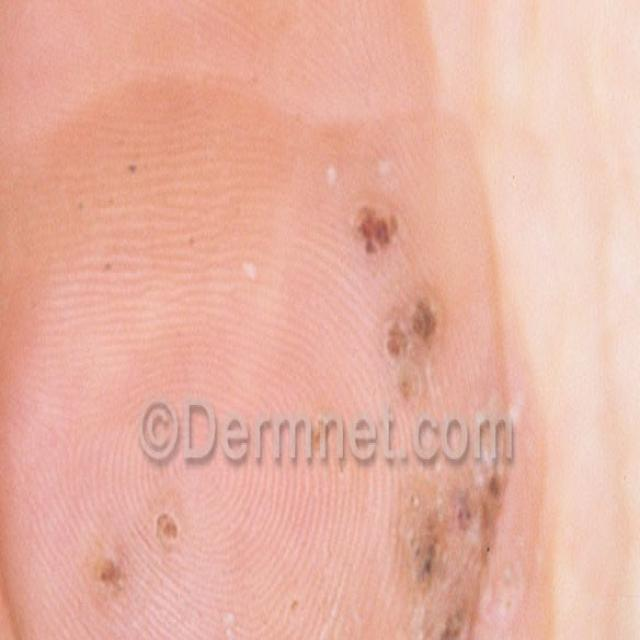Warts: (302, 117, 517, 640), (81, 497, 200, 631)
